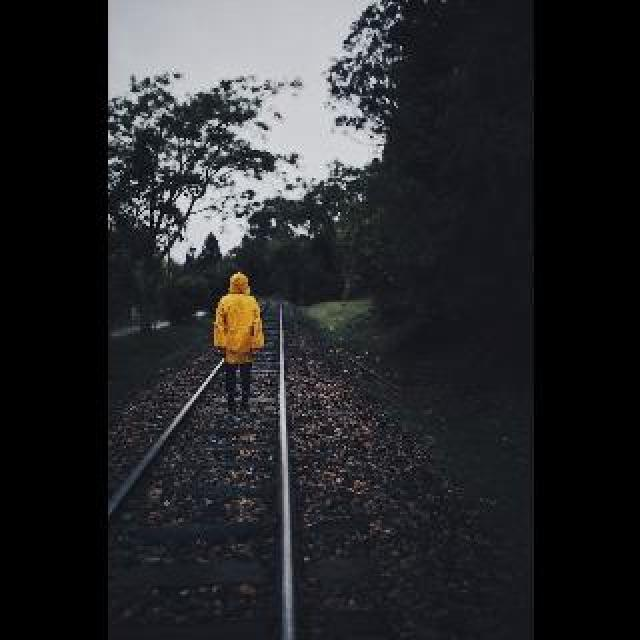people: (210, 270, 270, 420)
